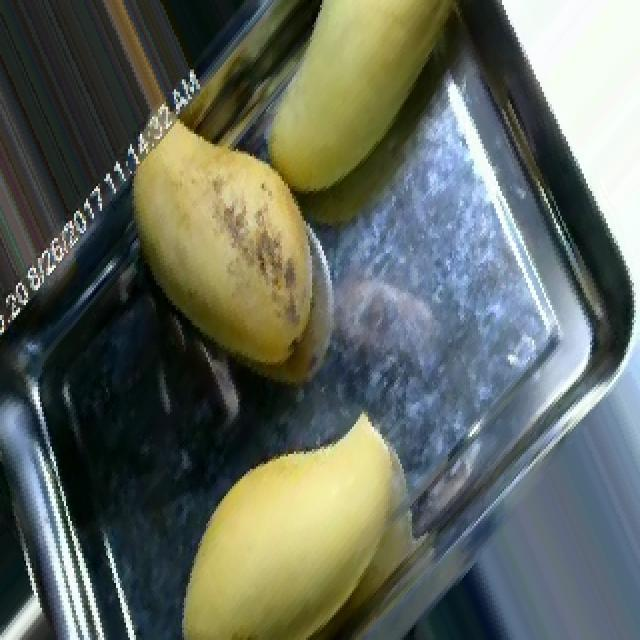Mango: (180, 411, 406, 638), (129, 117, 313, 366), (267, 5, 460, 192)
